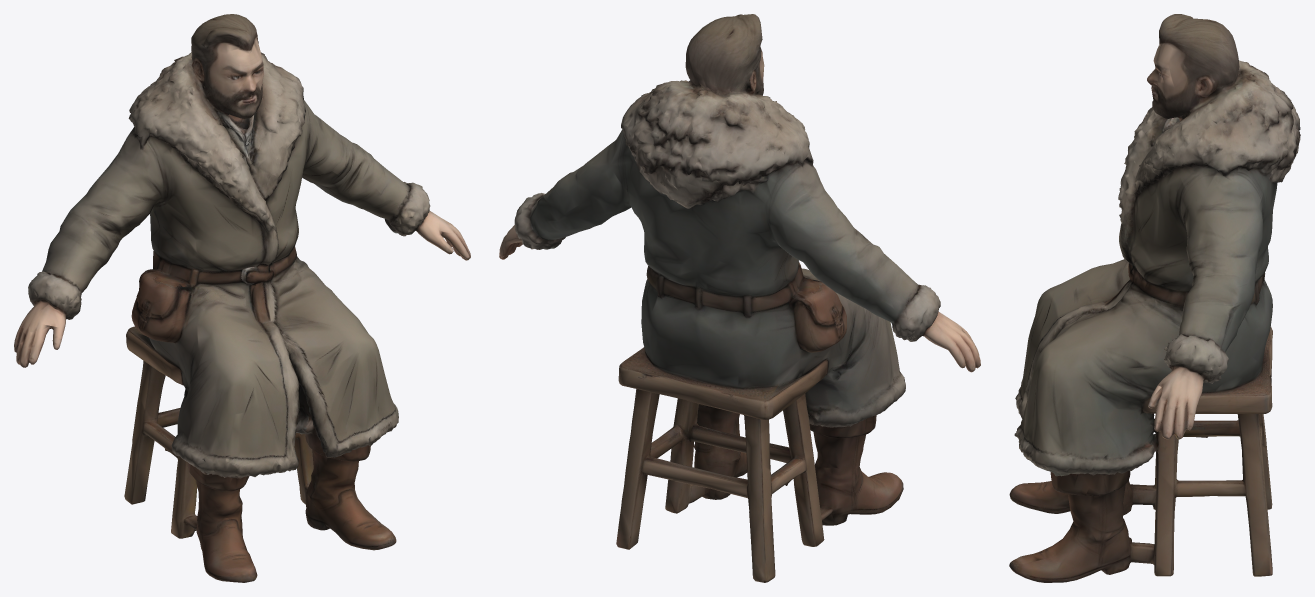
Rendered from merchant_patron.glb.
The picture shows the model from 3 angles, left to right: view 1: azimuth 30°, elevation 25°; view 2: azimuth 150°, elevation 25°; view 3: azimuth 270°, elevation 25°; orthographic projection. The views are drawn at different scales.
Size of the model in its own units: 1.93 by 2 by 1.02.
Materials: 1 (1 with a texture image).
